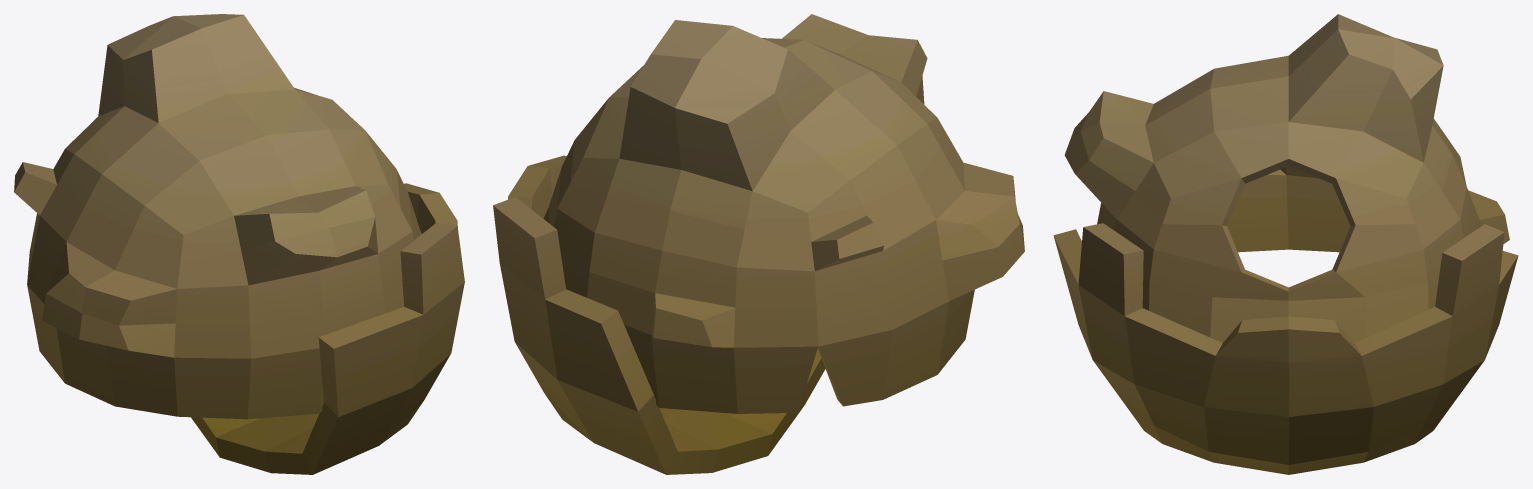
Rendered from Rock.fbx.
3 views of the same model, side by side, from view 1: azimuth 30°, elevation 25°; view 2: azimuth 150°, elevation 25°; view 3: azimuth 270°, elevation 25° (orthographic). The views are drawn at different scales.
Visible parts, largest first — view 1: Cube.006, Cube.007; view 2: Cube.006, Cube.007; view 3: Cube.006, Cube.007.
Boxes of the visible parts, x1=… form: Cube.006: x1=14, y1=14, x2=421, y2=419; Cube.007: x1=191, y1=183, x2=464, y2=474; Cube.006: x1=543, y1=14, x2=1024, y2=413; Cube.007: x1=493, y1=155, x2=825, y2=474; Cube.006: x1=1064, y1=14, x2=1509, y2=342; Cube.007: x1=1053, y1=223, x2=1518, y2=474.
Size of the model in its own units: 203 by 191 by 197.
